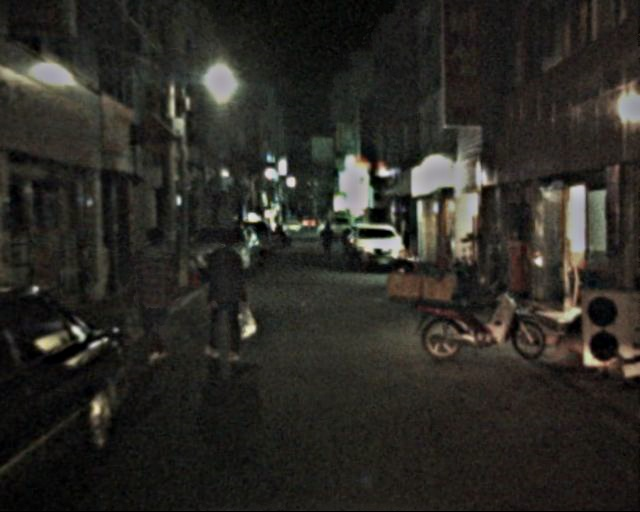person: (127, 223, 185, 365), (199, 228, 252, 364), (318, 220, 338, 263)
